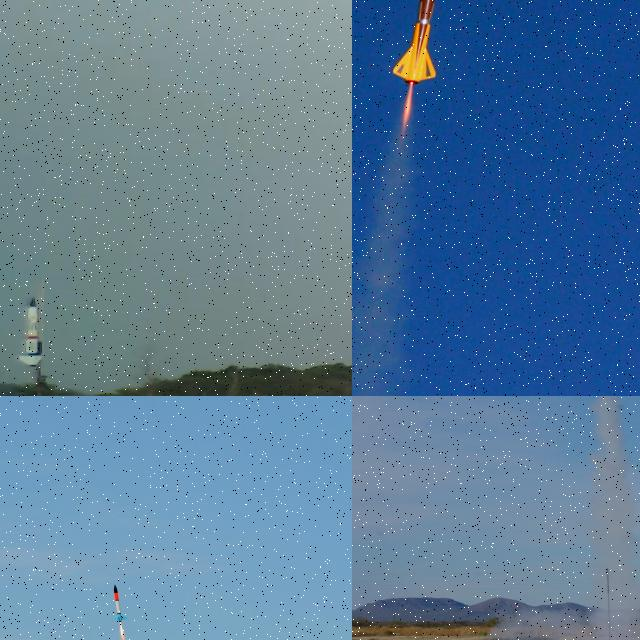Rocket: (391, 0, 454, 85), (16, 296, 45, 366), (113, 584, 128, 622)
